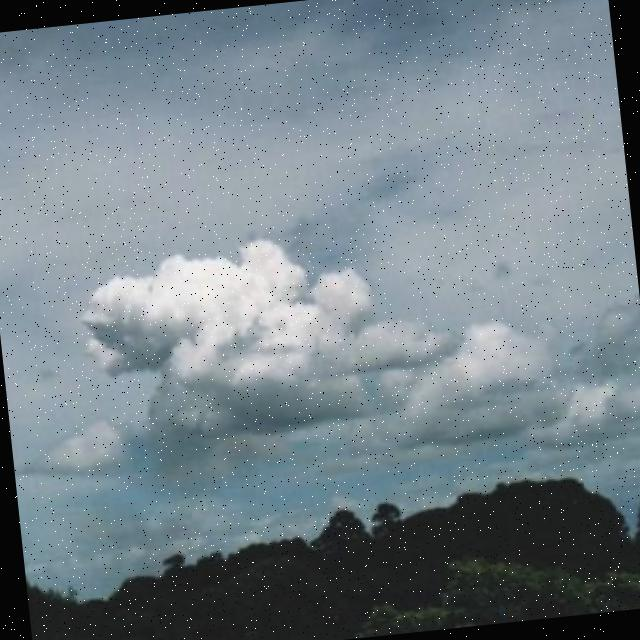Cs: (1, 191, 640, 517)
